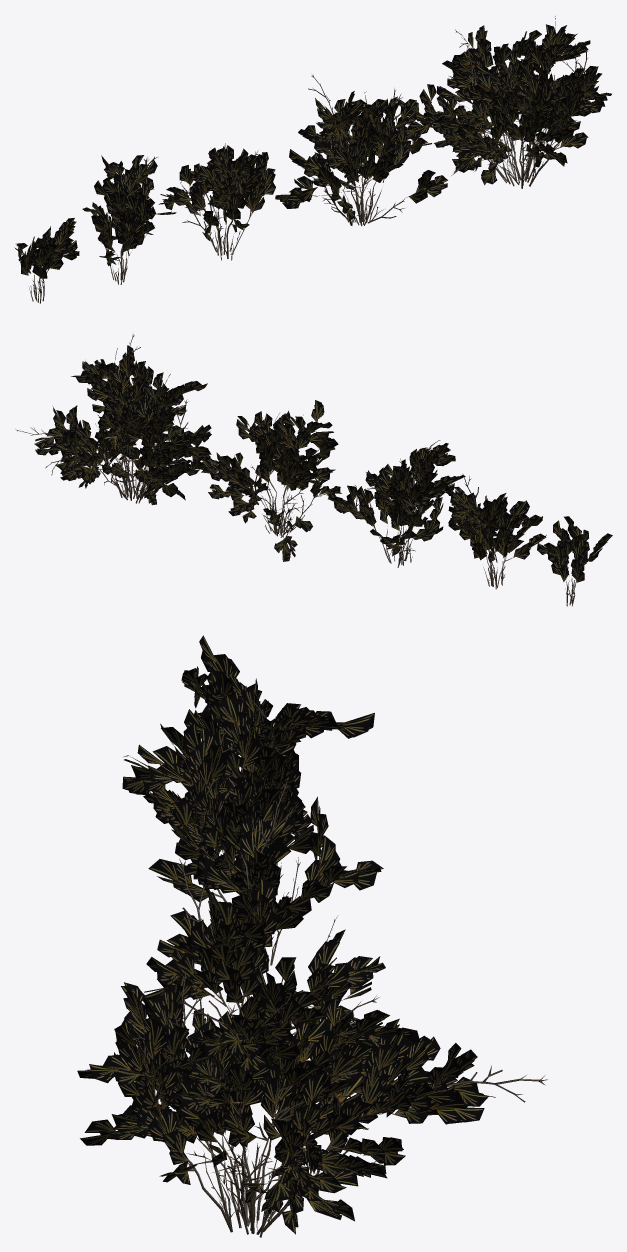
The model's file is wild_rooibos_bush.glb.
The picture shows the model from 3 angles, top to bottom: view 1: azimuth 30°, elevation 25°; view 2: azimuth 150°, elevation 25°; view 3: azimuth 270°, elevation 25°; orthographic projection. The views are drawn at different scales.
Parts seen in each view (by area): view 1: wild_rooibos_bush_a; view 2: wild_rooibos_bush_a; view 3: wild_rooibos_bush_a.
Boxes of the visible parts, x1,y1,x2,y2 form: wild_rooibos_bush_a: (14, 16, 611, 303); wild_rooibos_bush_a: (15, 334, 612, 606); wild_rooibos_bush_a: (77, 635, 547, 1237).
Size of the model in its own units: 2.28 by 0.5413 by 0.8432.
2 materials, 2 textured.
